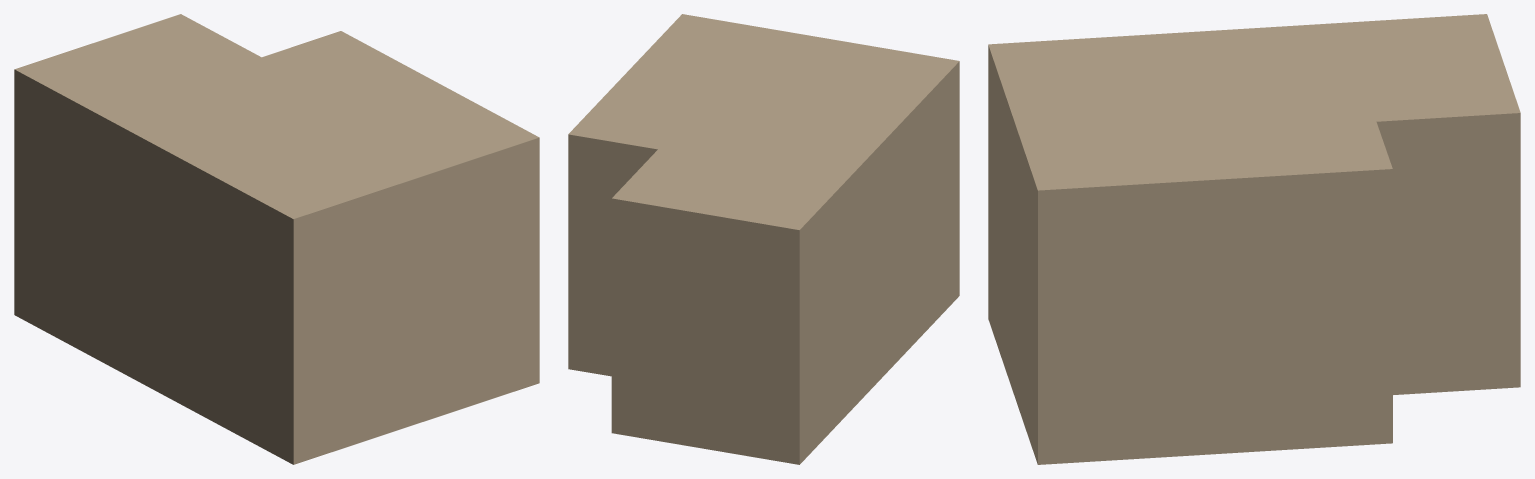
File: bld_107639540.dae
The picture shows the model from 3 angles, left to right: view 1: azimuth 30°, elevation 25°; view 2: azimuth 150°, elevation 25°; view 3: azimuth 270°, elevation 25°; orthographic projection. The views are drawn at different scales.
Visible parts, largest first — view 1: bld_107639540; view 2: bld_107639540; view 3: bld_107639540.
Boxes of the visible parts, bbox=[...] form: bld_107639540: bbox=[14, 14, 539, 464]; bld_107639540: bbox=[568, 14, 959, 464]; bld_107639540: bbox=[988, 14, 1520, 464].
Bounding box in the file's own units: 11.04 × 14.07 × 8.
